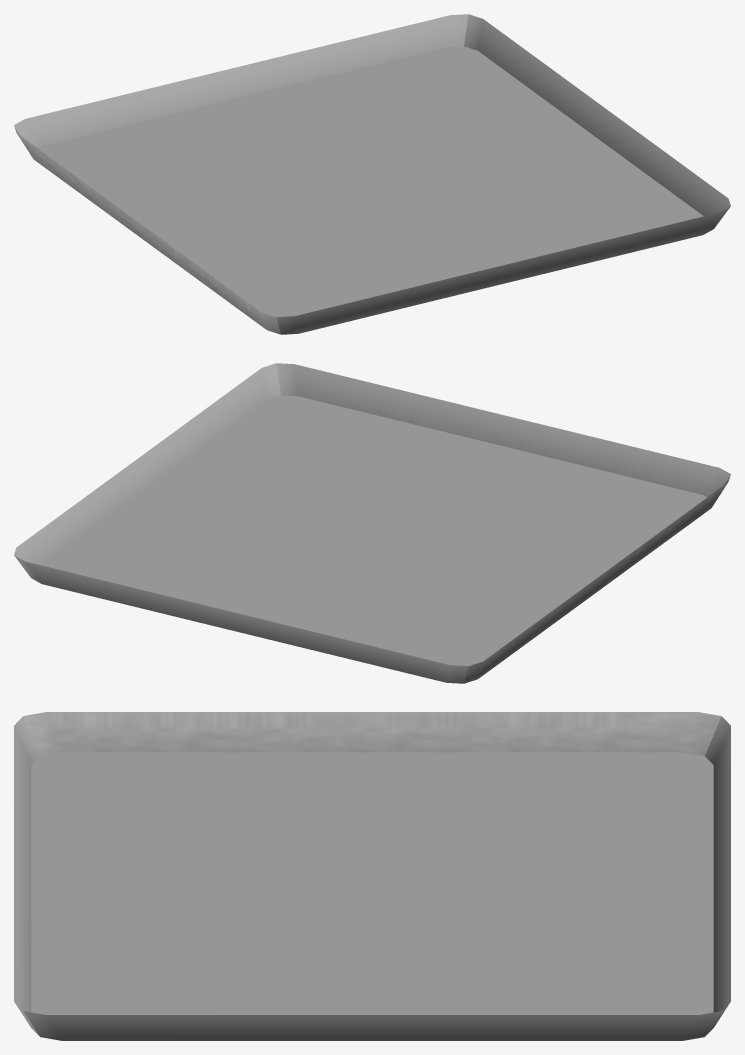
The model's file is CharolaUno.obj.
3 views of the same model, one above another, from view 1: azimuth 30°, elevation 25°; view 2: azimuth 150°, elevation 25°; view 3: azimuth 270°, elevation 25° (orthographic). The views are drawn at different scales.
Visible parts, largest first — view 1: pasted__polySurface4165 croissant5k:croissant5k20:Mesh group13, croissant5k:croissant5k20:Mesh group13 pasted__polySurface4164; view 2: pasted__polySurface4165 croissant5k:croissant5k20:Mesh group13, croissant5k:croissant5k20:Mesh group13 pasted__polySurface4164; view 3: pasted__polySurface4165 croissant5k:croissant5k20:Mesh group13, croissant5k:croissant5k20:Mesh group13 pasted__polySurface4164.
Part boxes in pixels (box(x1,y1,x2,y2)): pasted__polySurface4165 croissant5k:croissant5k20:Mesh group13: box(66, 54, 678, 312); croissant5k:croissant5k20:Mesh group13 pasted__polySurface4164: box(14, 14, 730, 334); pasted__polySurface4165 croissant5k:croissant5k20:Mesh group13: box(66, 403, 678, 661); croissant5k:croissant5k20:Mesh group13 pasted__polySurface4164: box(14, 363, 730, 683); pasted__polySurface4165 croissant5k:croissant5k20:Mesh group13: box(65, 757, 679, 1014); croissant5k:croissant5k20:Mesh group13 pasted__polySurface4164: box(14, 712, 730, 1040).
Size of the model in its own units: 0.6599 by 0.0336 by 0.6599.
1 material, 1 textured.
